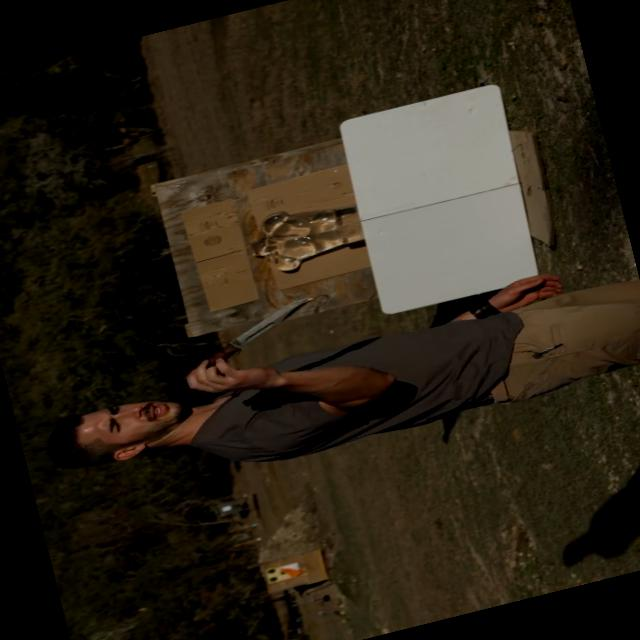knife: (164, 289, 338, 389)
